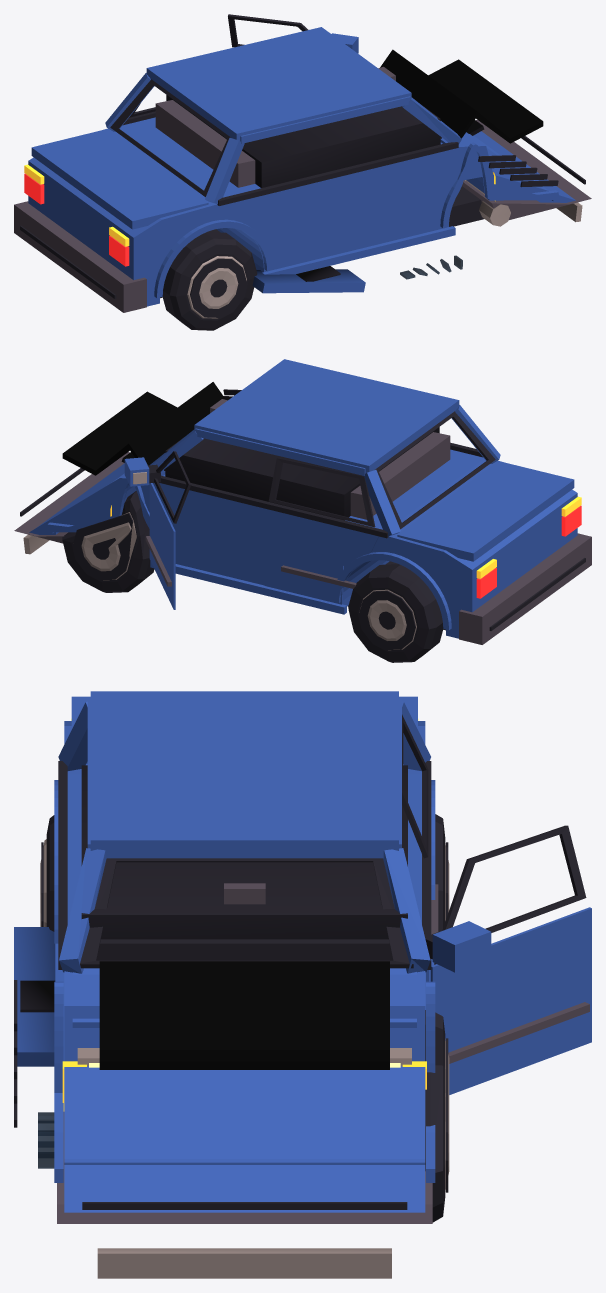
The model's file is prop.l10-abandoned-sedan-blue.glb.
3 renders of one model, top to bottom at view 1: azimuth 30°, elevation 25°; view 2: azimuth 150°, elevation 25°; view 3: azimuth 270°, elevation 25°, orthographic. The views are drawn at different scales.
Visible parts, largest first — view 1: body, object 8, lightsBrake_emi_sirenRed, wheelFL, lightsBrake_emi_schoolBusYellow; view 2: body, object 8, wheelFR, lightsBrake_emi_sirenRed, lightsBrake_emi_schoolBusYellow; view 3: body, object 8, wheelFR.
Part boxes in pixels (x1,y1,x2,y2): body: [14, 27, 591, 312]; object 8: [129, 14, 582, 330]; lightsBrake_emi_sirenRed: [24, 173, 129, 266]; wheelFL: [479, 201, 510, 226]; lightsBrake_emi_schoolBusYellow: [24, 164, 129, 246]; body: [14, 359, 591, 644]; object 8: [23, 382, 443, 662]; wheelFR: [62, 491, 154, 592]; lightsBrake_emi_sirenRed: [476, 505, 581, 598]; lightsBrake_emi_schoolBusYellow: [476, 496, 581, 578]; body: [54, 691, 435, 1223]; object 8: [14, 714, 591, 1278]; wheelFR: [425, 1010, 449, 1222].
Size of the model in its own units: 4.46 by 1.64 by 2.75.
